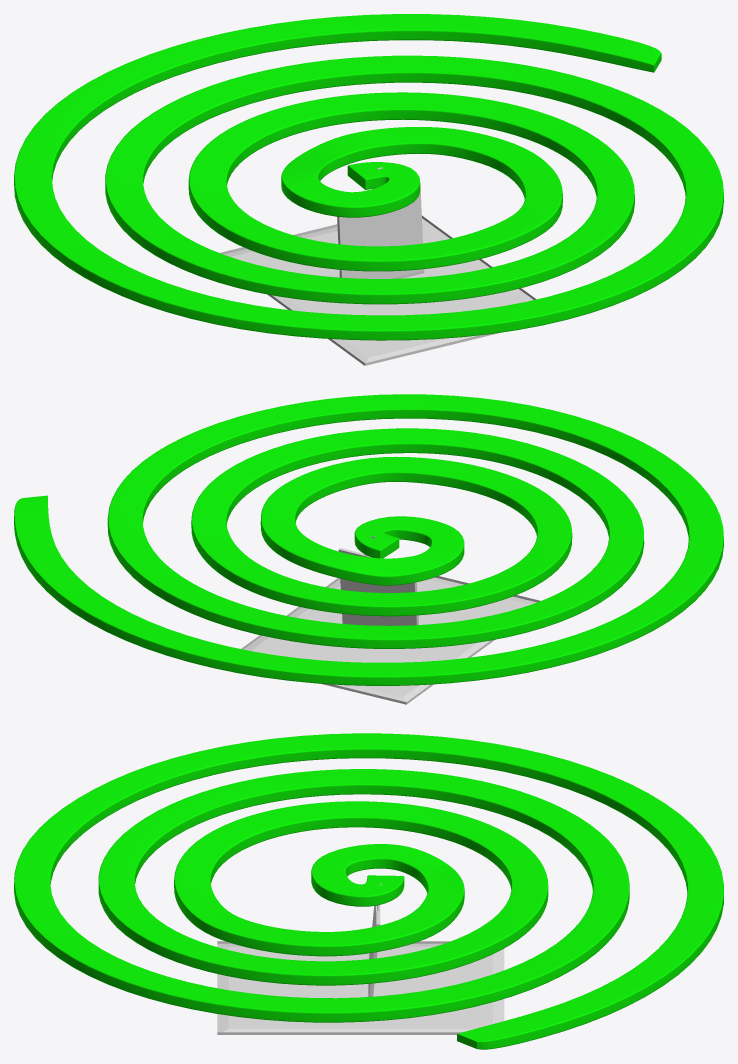
File: Spring0.fbx
3 renders of one model, top to bottom at view 1: azimuth 30°, elevation 25°; view 2: azimuth 150°, elevation 25°; view 3: azimuth 270°, elevation 25°, orthographic. The views are drawn at different scales.
Visible parts, largest first — view 1: Spiral, Plane; view 2: Spiral, Plane; view 3: Spiral, Plane.
Part boxes in pixels (bbox=[...]): Spiral: bbox=[14, 14, 723, 340]; Plane: bbox=[220, 167, 536, 365]; Spiral: bbox=[14, 394, 723, 685]; Plane: bbox=[241, 536, 540, 704]; Spiral: bbox=[14, 733, 723, 1049]; Plane: bbox=[217, 883, 504, 1034].
Bounding box in the file's own units: 157 × 25.39 × 153.
